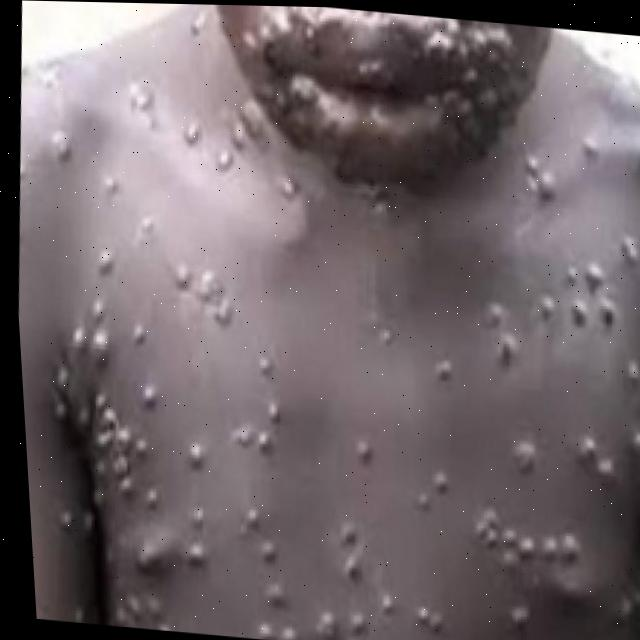Eczema: (54, 135, 640, 640), (248, 6, 521, 169)
